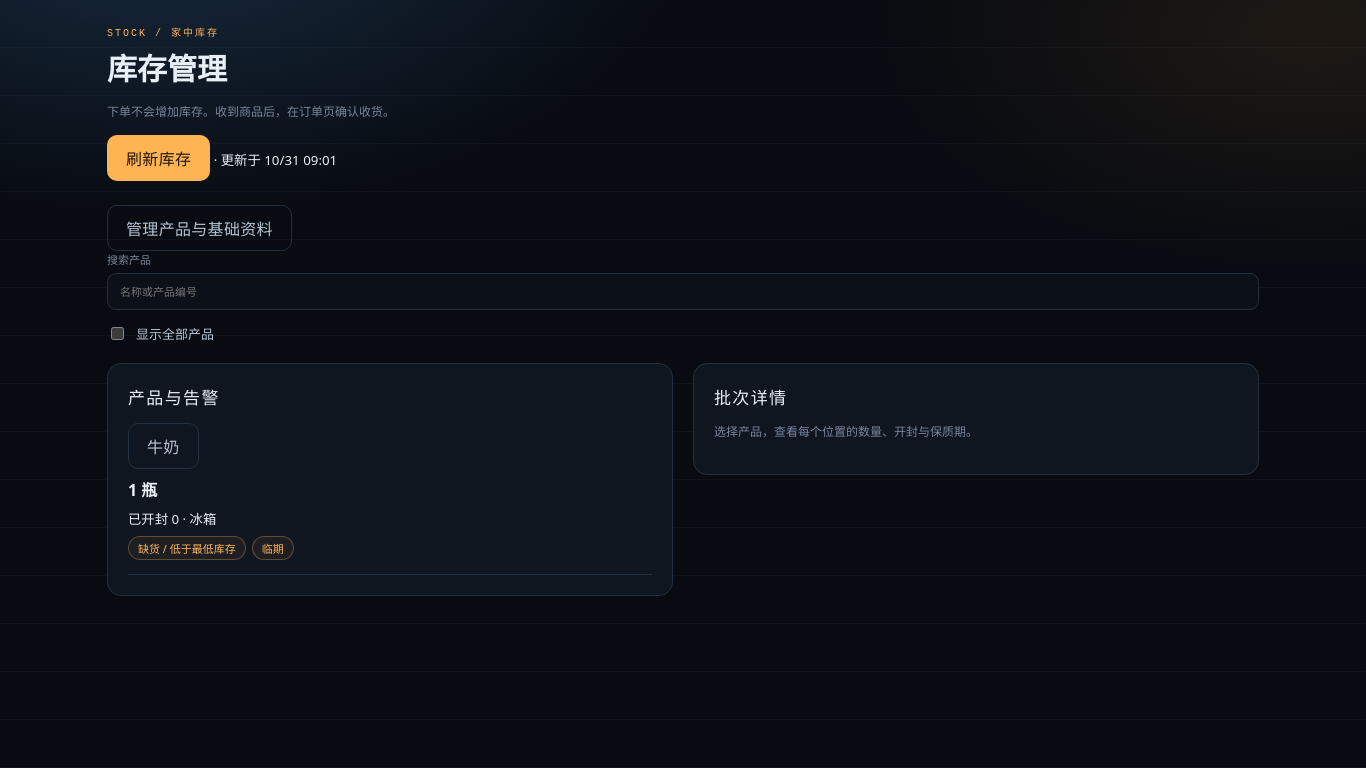
Test case: 显示库存告警与批次，刷新失败保留旧数据标识
The width and height of the screenshot is (1366, 768).
Click the button "牛奶": (163, 446) [128,423,199,469]
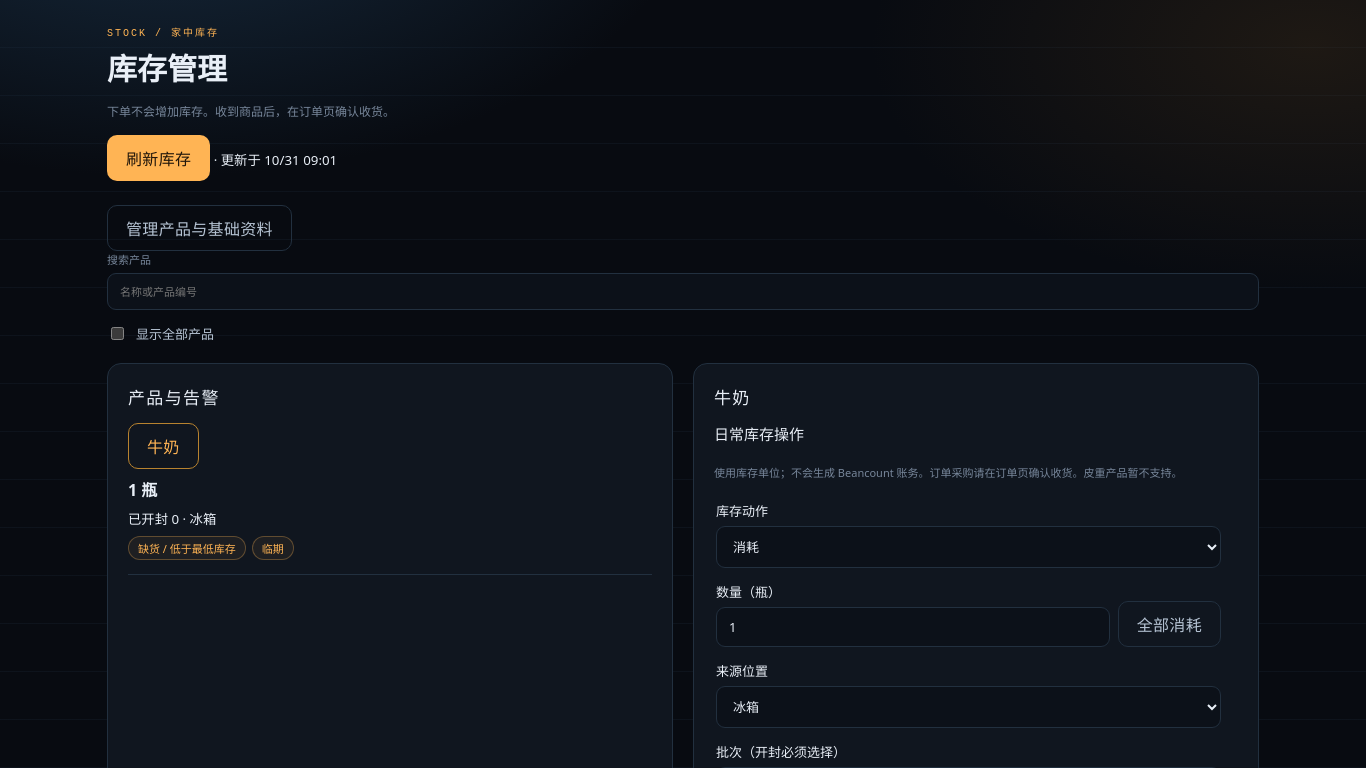
Expected: the text "缺货 / 低于最低库存" is shown, [128,536,246,560]
Expected: the text "临期" is shown, [252,536,294,560]
Click the button "刷新库存": (159, 158) [107,135,210,181]
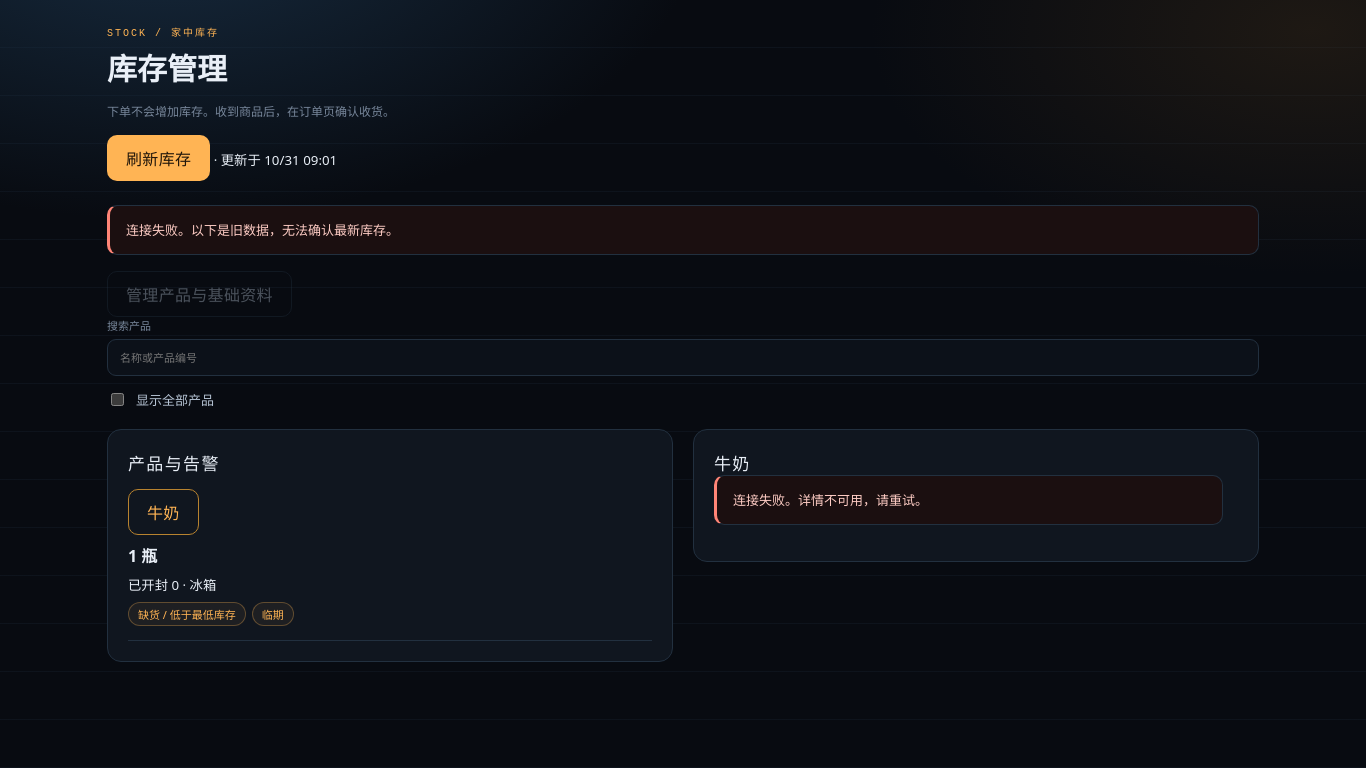
Now the text "连接失败。以下是旧数据，无法确认最新库存。" is shown, box [126,219,399,241]
